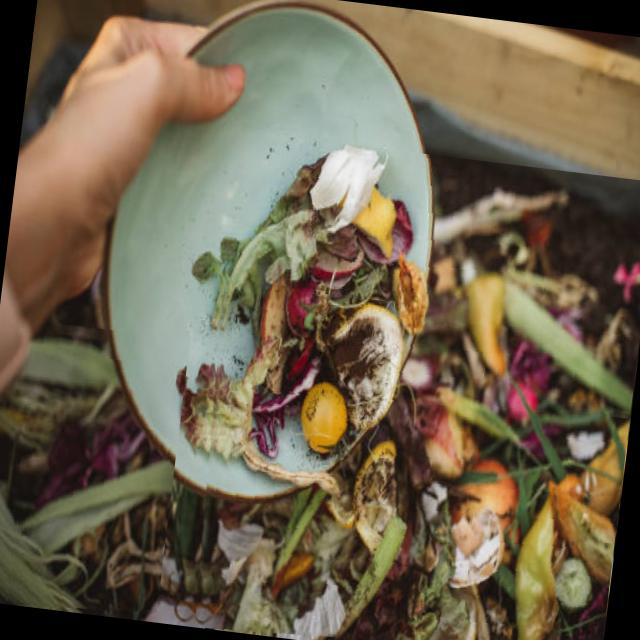Organic: (175, 130, 640, 640), (3, 320, 190, 622)
